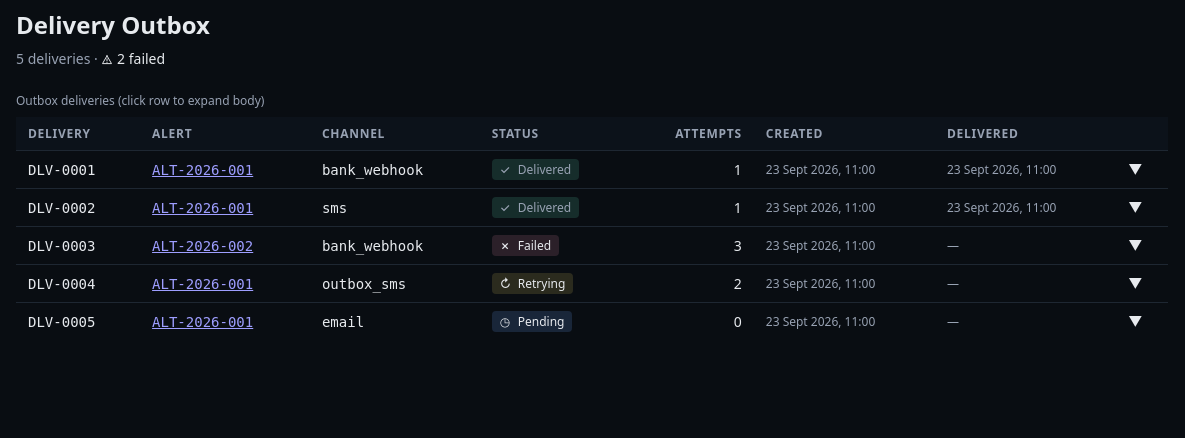
Scenario: OutboxPage (Step C7) › expands a row to show the rendered_body on click
This screenshot has width=1185, height=438.
Expected: the element with test id "outbox-table" is shown, top-left (16, 92), bottom-right (1168, 340)
Step 1. Click the row with test id "outbox-row-DLV-0001" → (592, 170), box top-left (16, 150), bottom-right (1168, 188)
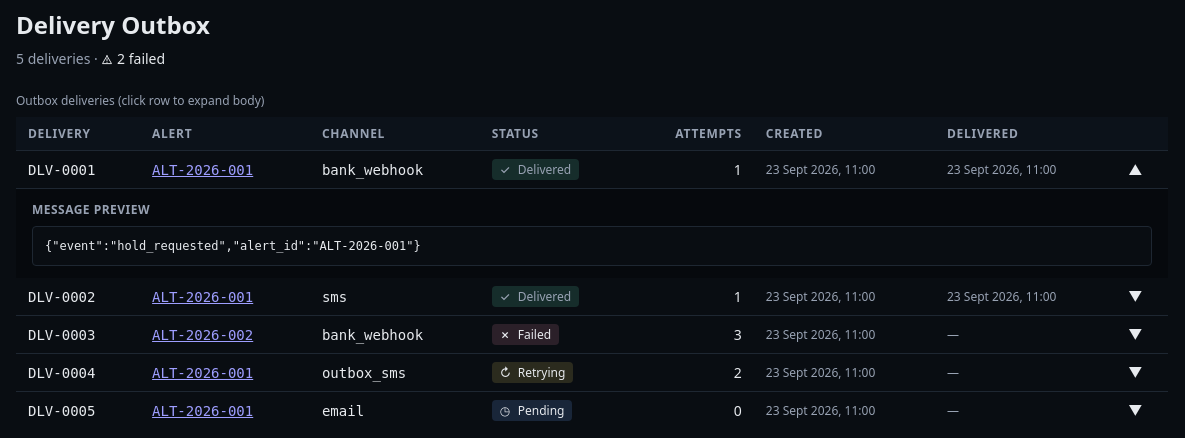
Now the row with test id "outbox-body-DLV-0001" is shown, box top-left (16, 188), bottom-right (1168, 278)
Now the text "{\"event\":\"hold_requested\",\"alert_id\":\"ALT-2026-001\"}" is shown, box top-left (32, 226), bottom-right (1152, 266)
